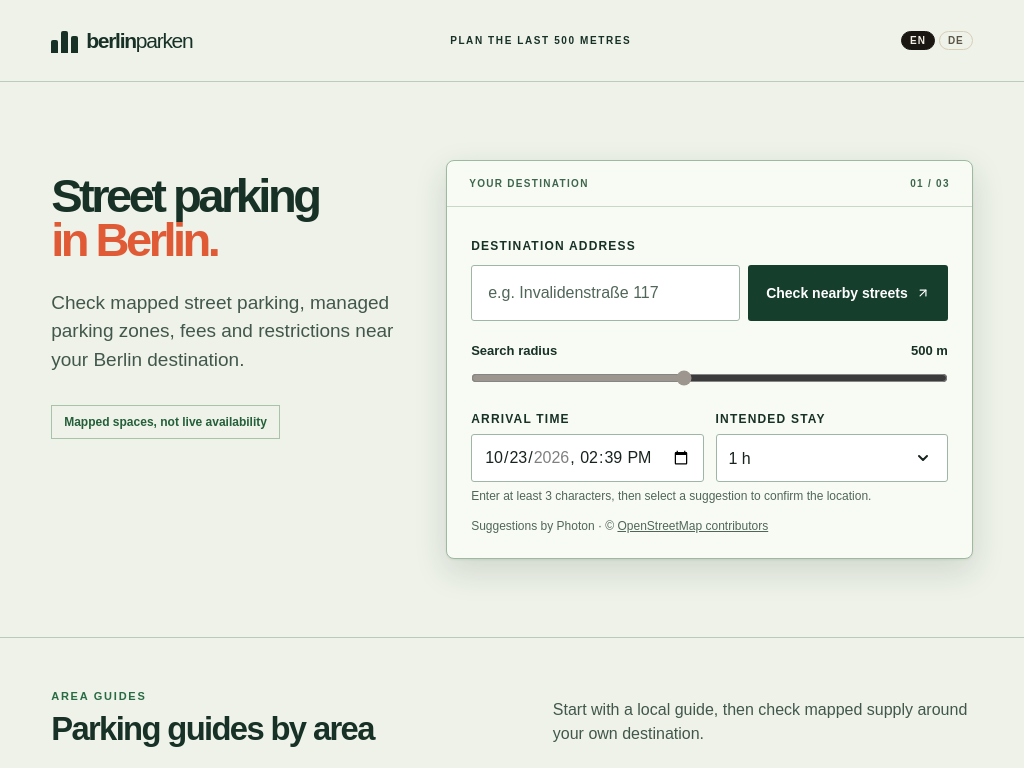
Scenario: SignalPage › blocks navigation when the arrival time is in the past
In the dropdown labelled "Destination address": x=606, y=293 471,265 -> 740,321, type "Alexanderplatz"
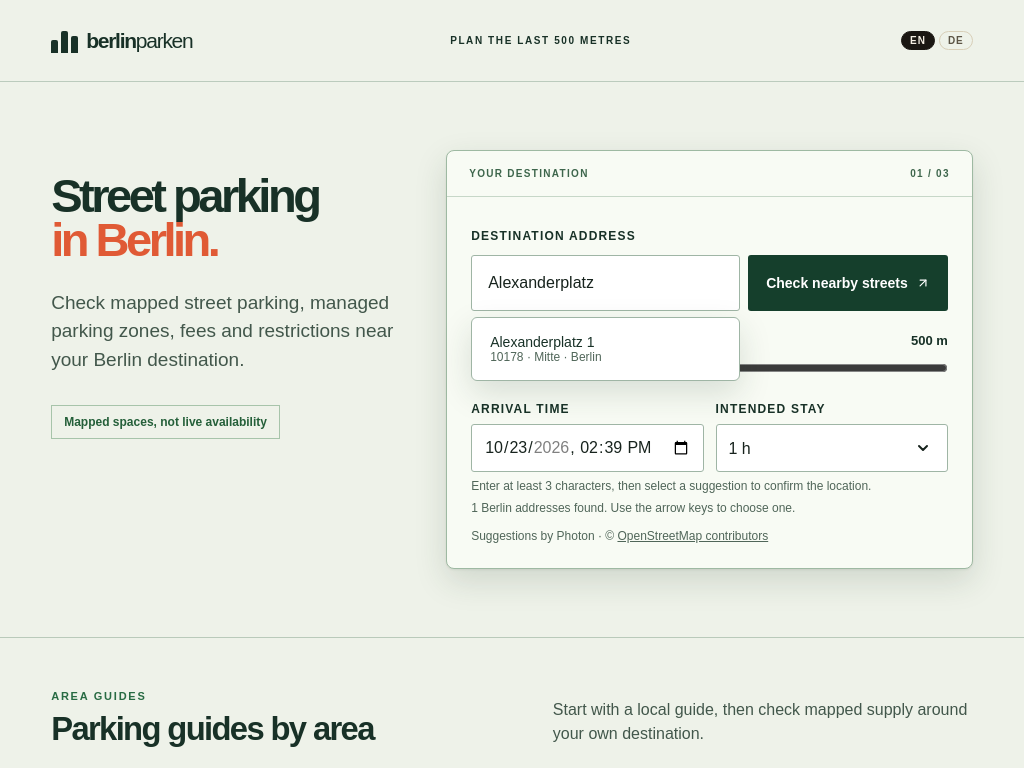
Click the option "Alexanderplatz 1 10178 · Mitte · Berlin": x=546, y=349 490,334 -> 602,364
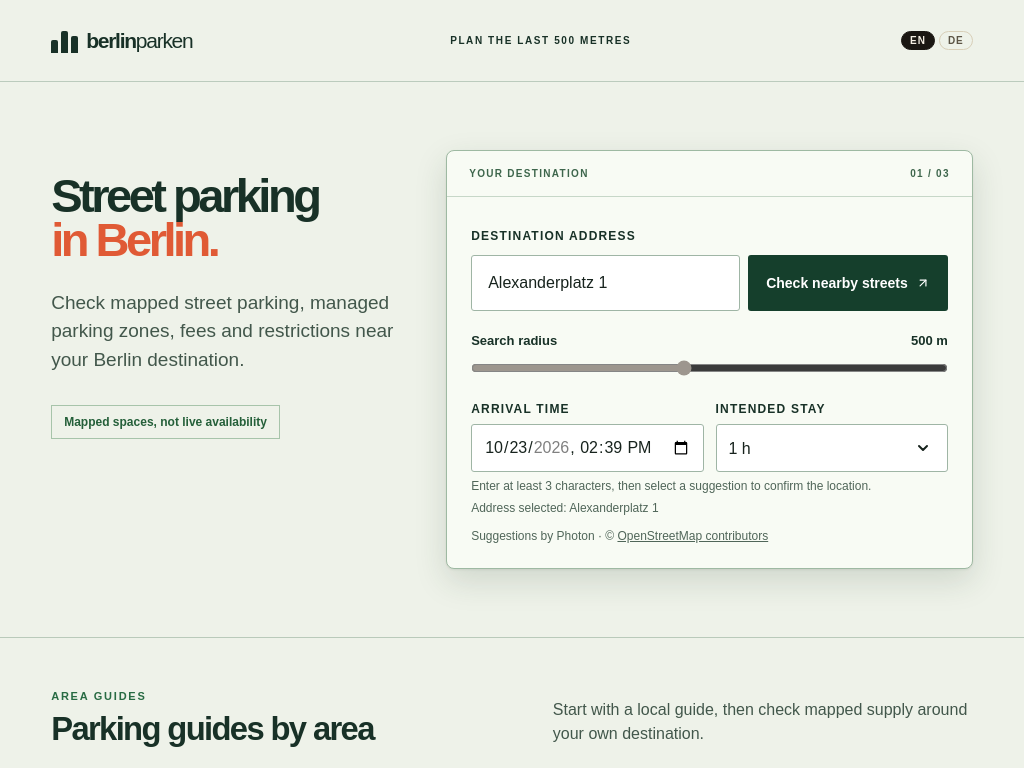
Replace the text in the field labelled "Arrival time" with "2000-01-01T10:00": x=587, y=448 471,424 -> 704,472
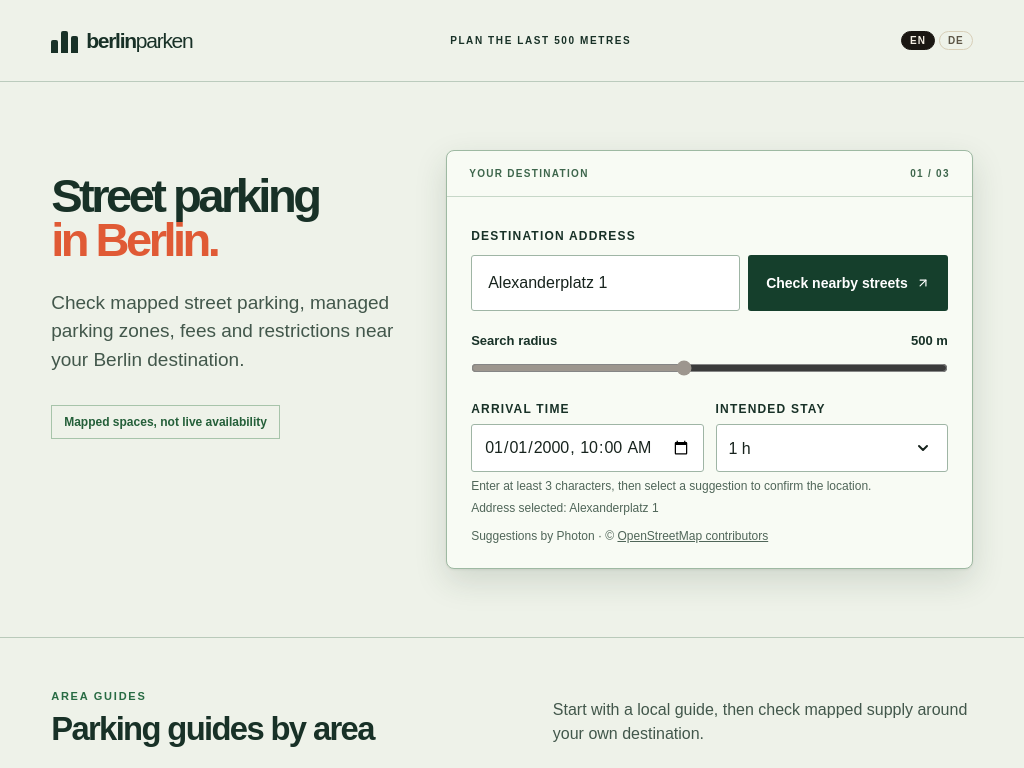
Click the button "Check nearby streets": x=848, y=283 748,255 -> 948,311
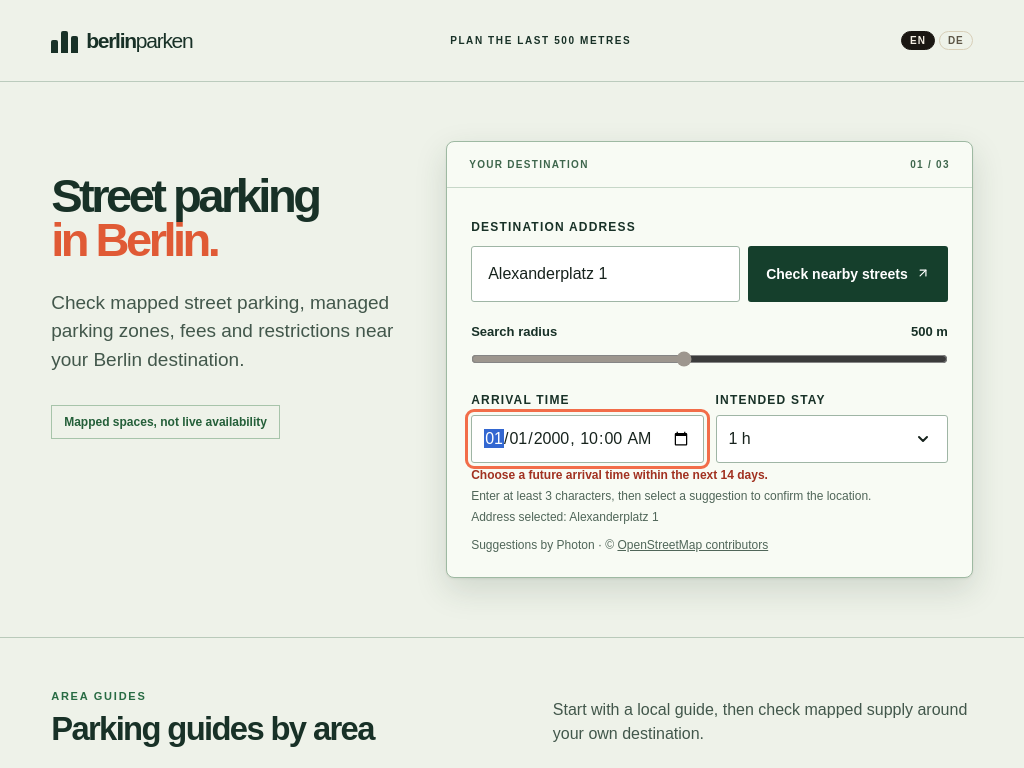
Check: the text "Choose a future arrival time within the next 14 days." is shown, box 471,468 -> 768,482
